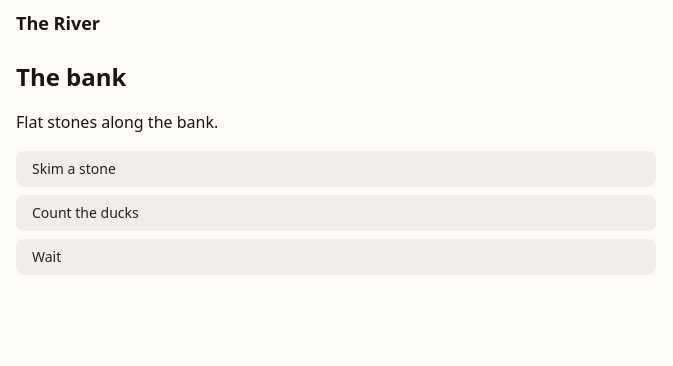
DiceRoll › can be replaced by name
Click the button "Skim a stone".
click(74, 168)  # box [16,151,656,187]
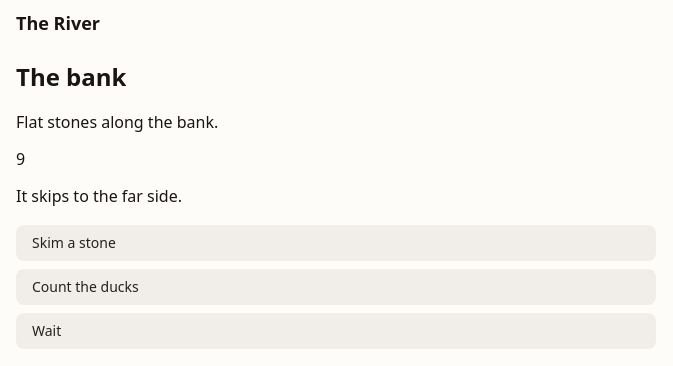
Now the text "9" is shown, box [16,148,25,170]
